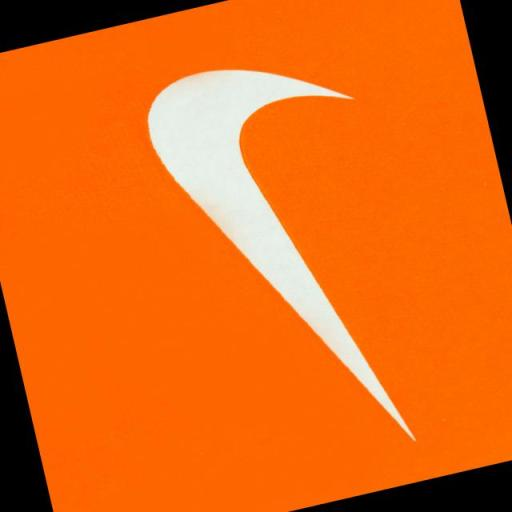Nike: (134, 42, 420, 491)
